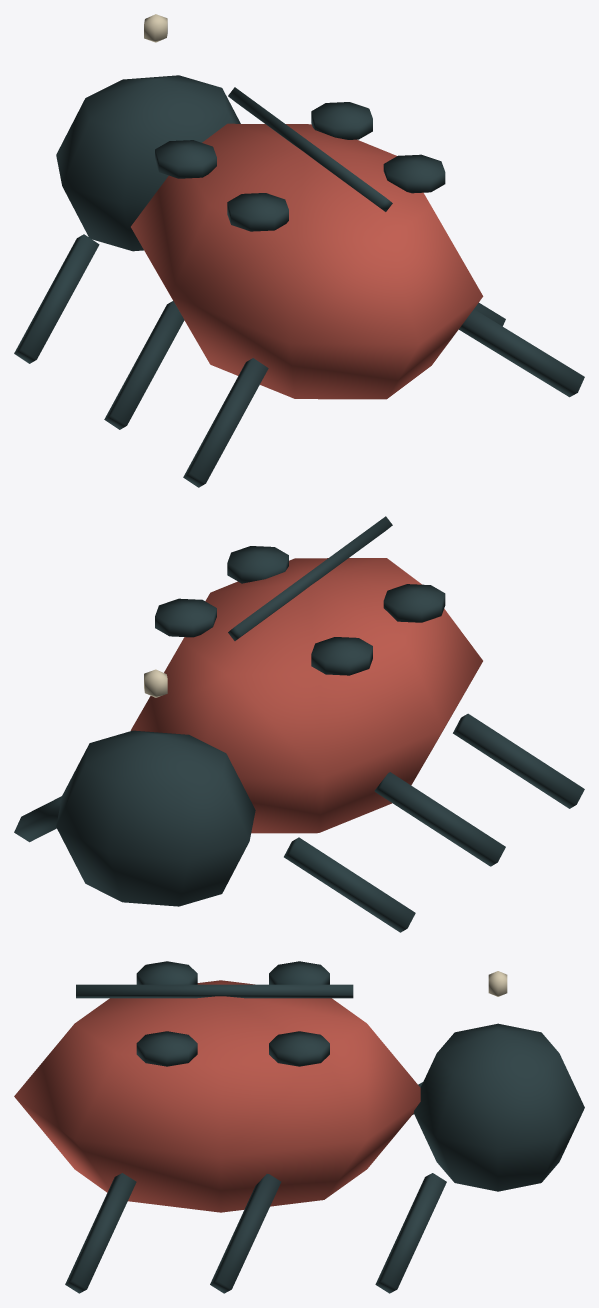
Rendered from insect_ladybird_low.glb.
3 renders of one model, top to bottom at view 1: azimuth 30°, elevation 25°; view 2: azimuth 150°, elevation 25°; view 3: azimuth 270°, elevation 25°, orthographic. The views are drawn at different scales.
Bounding box in the file's own units: 0.101 × 0.064 × 0.138.
